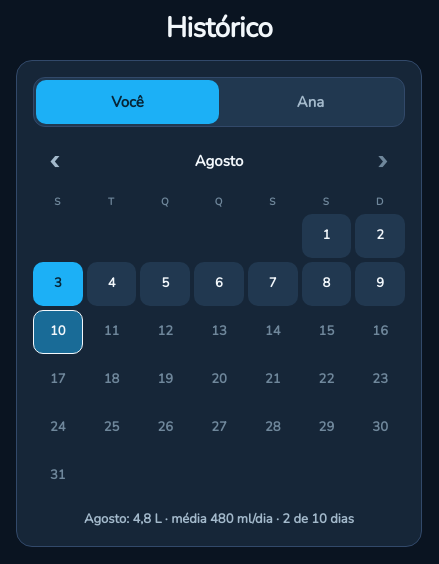
Historico › stops at the month of the first register
Click the button named "Mês anterior".
click(55, 161)  # box [33,139,77,183]
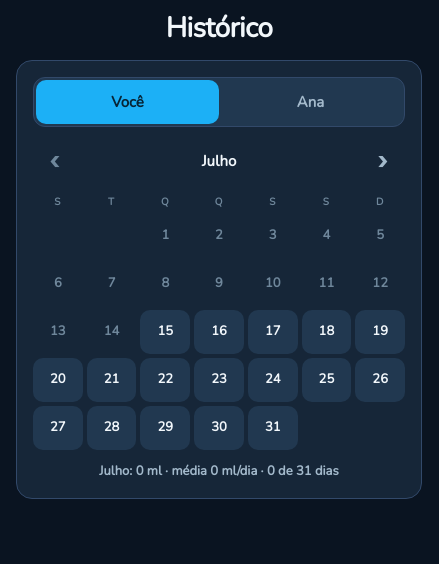
Check: the text "Julho" is shown, box [202,150,236,172]
Check: the button named "Mês anterior" is disabled, box [33,139,77,183]
